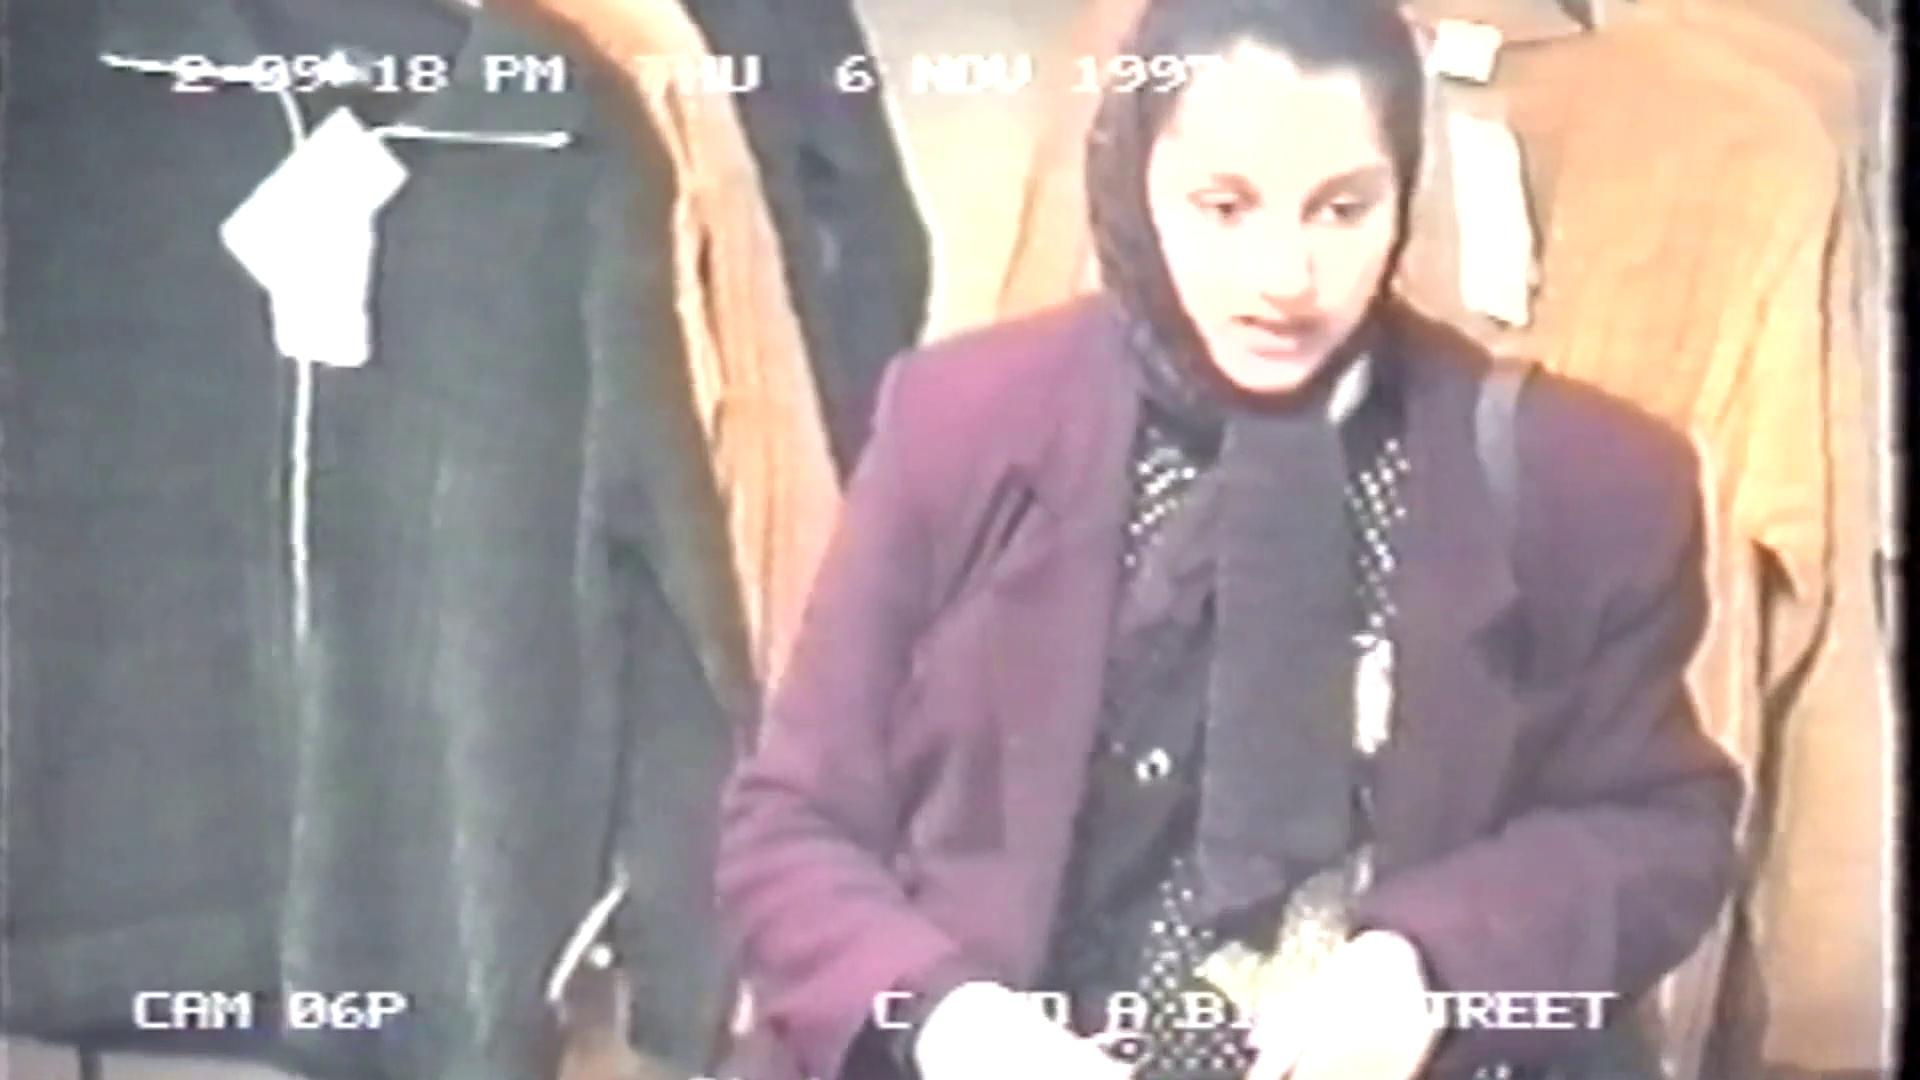Regular: (646, 0, 1750, 1080)
